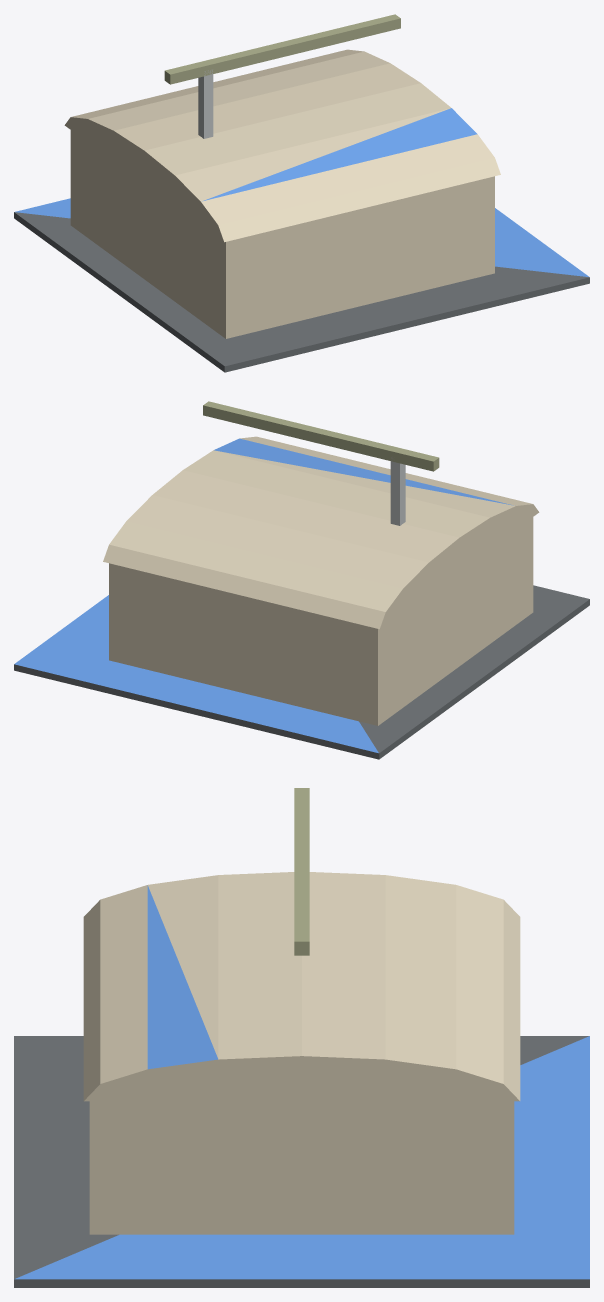
The model's file is meridian_construction_center.glb.
The picture shows the model from 3 angles, top to bottom: view 1: azimuth 30°, elevation 25°; view 2: azimuth 150°, elevation 25°; view 3: azimuth 270°, elevation 25°; orthographic projection. The views are drawn at different scales.
Visible parts, largest first — view 1: hull, crane; view 2: hull, crane; view 3: hull, crane.
Boxes of the visible parts, bbox=[...] form: hull: bbox=[14, 49, 589, 372]; crane: bbox=[164, 14, 400, 138]; hull: bbox=[14, 436, 589, 759]; crane: bbox=[203, 401, 439, 525]; hull: bbox=[14, 872, 589, 1287]; crane: bbox=[294, 788, 309, 955].
Size of the model in its own units: 15.2 by 8.4 by 15.2.
